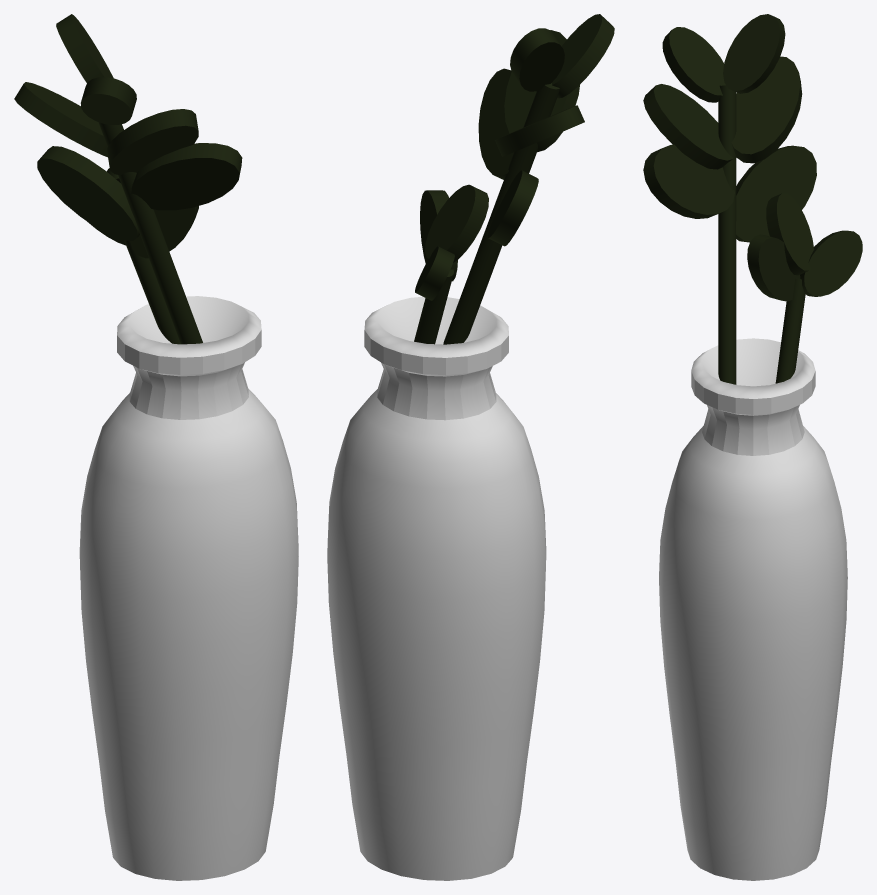
File: hall_vase.obj
The picture shows the model from 3 angles, left to right: view 1: azimuth 30°, elevation 25°; view 2: azimuth 150°, elevation 25°; view 3: azimuth 270°, elevation 25°; orthographic projection. The views are drawn at different scales.
Visible parts, largest first — view 1: polySurface1768; view 2: polySurface1768; view 3: polySurface1768.
Boxes of the visible parts, bbox=[...] form: polySurface1768: bbox=[14, 14, 298, 880]; polySurface1768: bbox=[327, 14, 614, 880]; polySurface1768: bbox=[643, 14, 862, 880].
Size of the model in its own units: 0.4342 by 1.38 by 0.3493.
